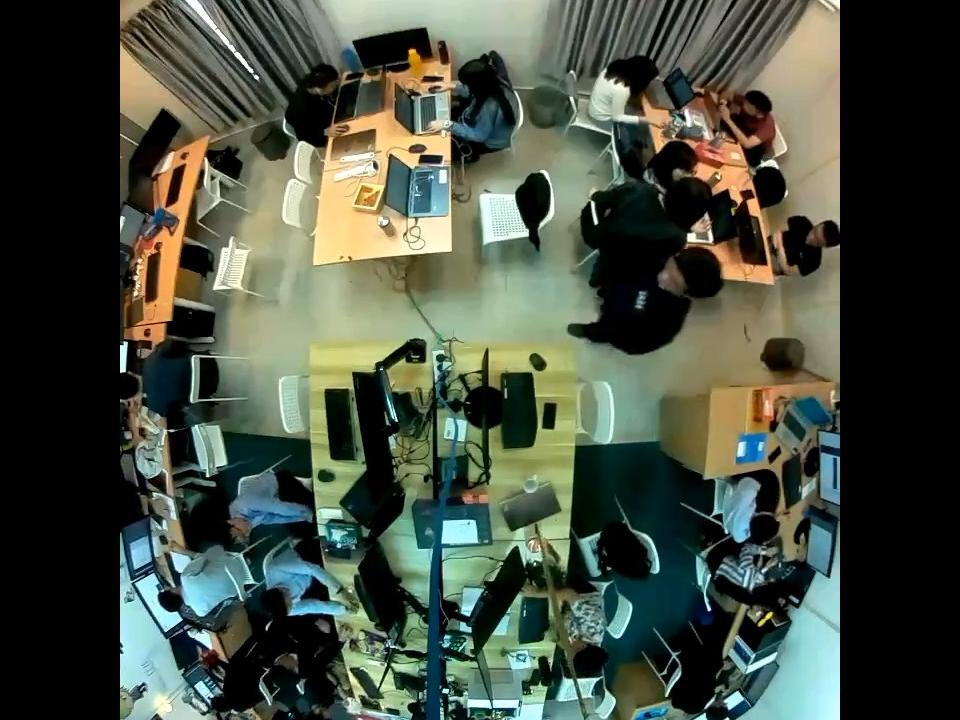name-tag: (633, 288, 649, 310)
